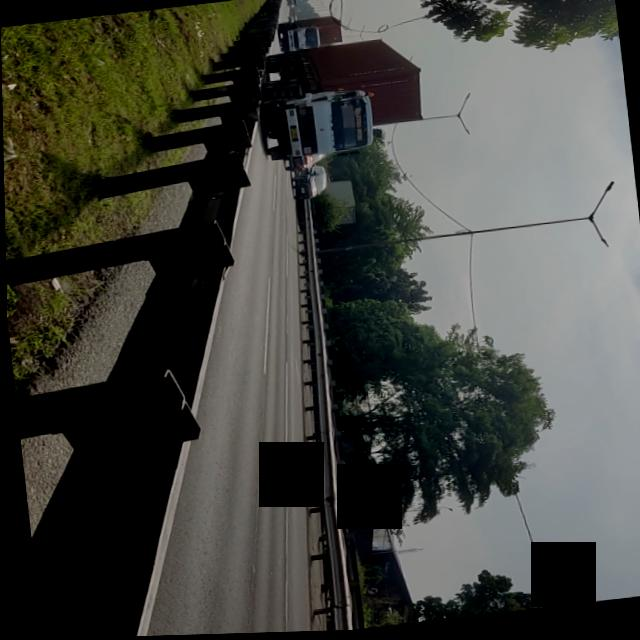Golongan V: (249, 36, 416, 165)
